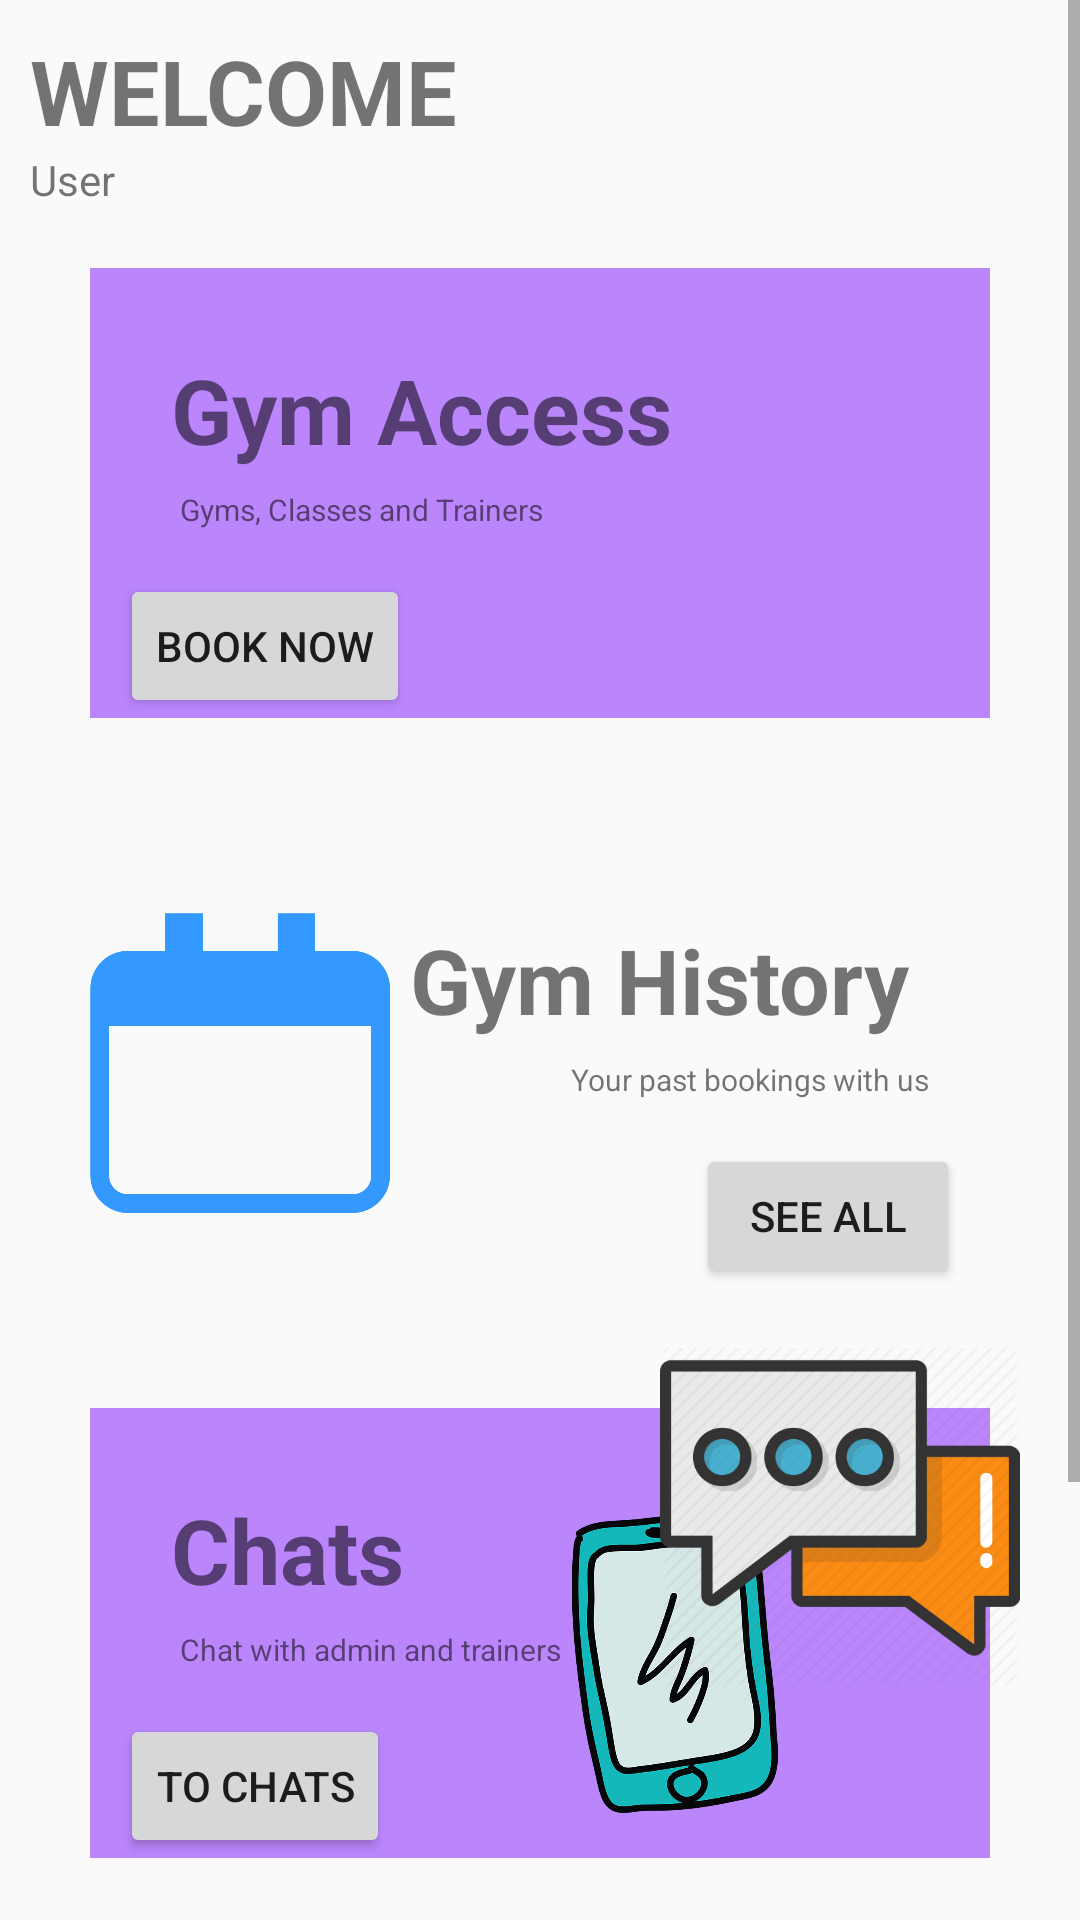

Icons on this 1080px x 1920px Android screen, each with its box as (x1, y1, x2, y2):
phone: (572, 1513, 780, 1813)
